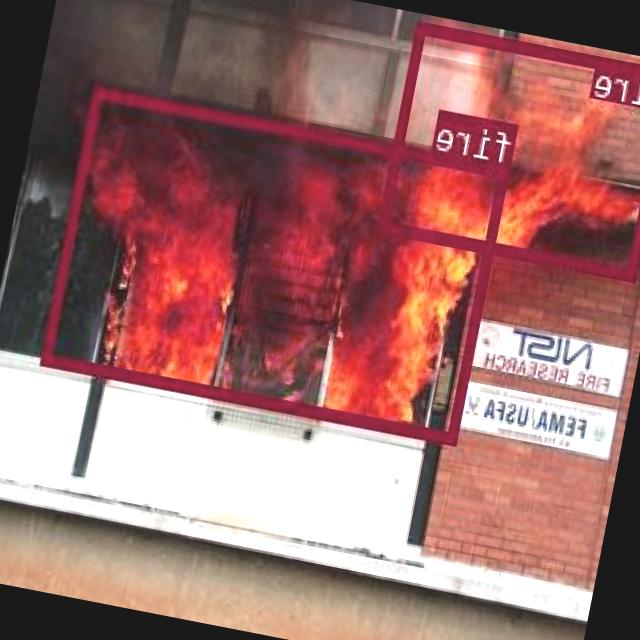fire: (44, 85, 513, 444), (379, 19, 640, 280)
